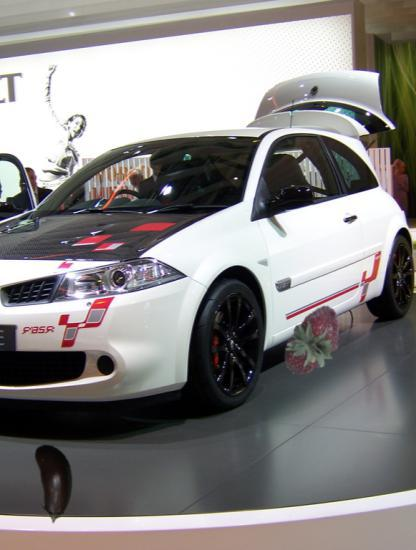Eggplant: (15, 442, 94, 521)
Strawberry: (276, 303, 353, 380)
